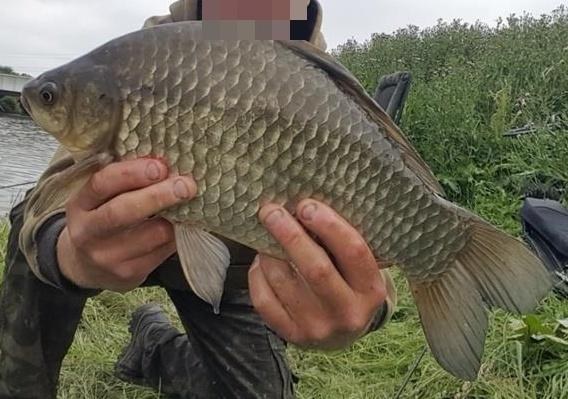Grass Carp: (19, 8, 557, 399)
